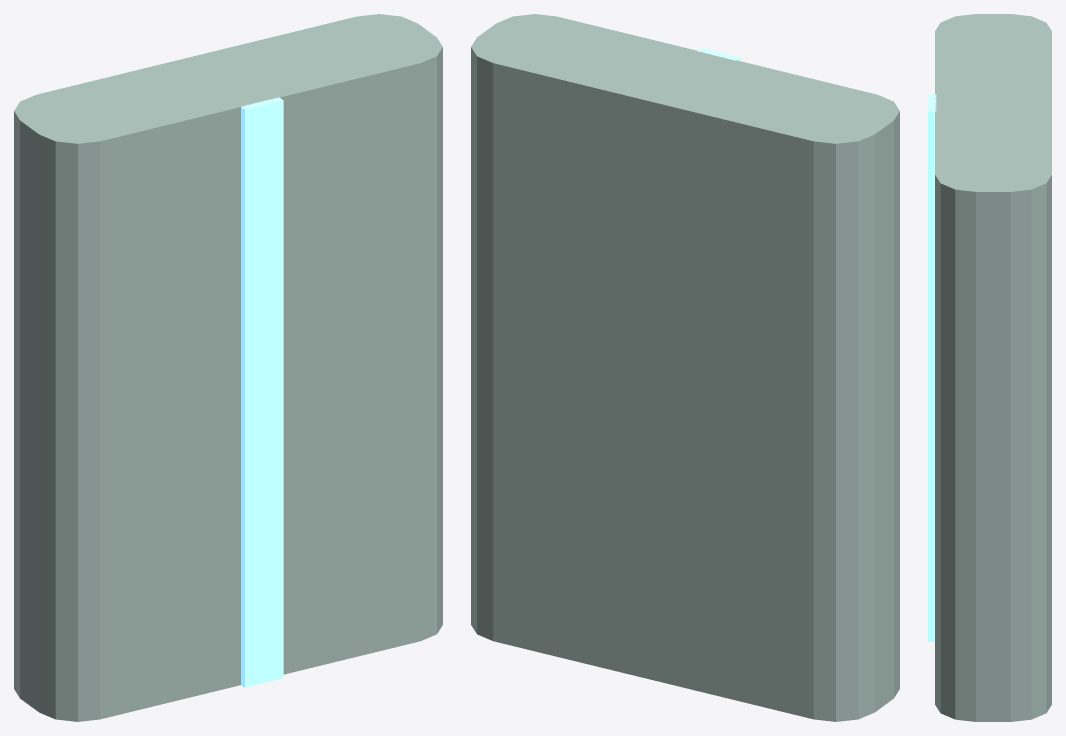
File: Door_LeafTile.gltf
The picture shows the model from 3 angles, left to right: view 1: azimuth 30°, elevation 25°; view 2: azimuth 150°, elevation 25°; view 3: azimuth 270°, elevation 25°; orthographic projection. The views are drawn at different scales.
Parts seen in each view (by area): view 1: Door_LeafTile_baked; view 2: Door_LeafTile_baked; view 3: Door_LeafTile_baked.
Boxes of the visible parts, <box> form: Door_LeafTile_baked: <box>14,14,442,721</box>; Door_LeafTile_baked: <box>471,14,899,721</box>; Door_LeafTile_baked: <box>928,14,1051,721</box>.
Size of the model in its own units: 0.72 by 1 by 0.212.
